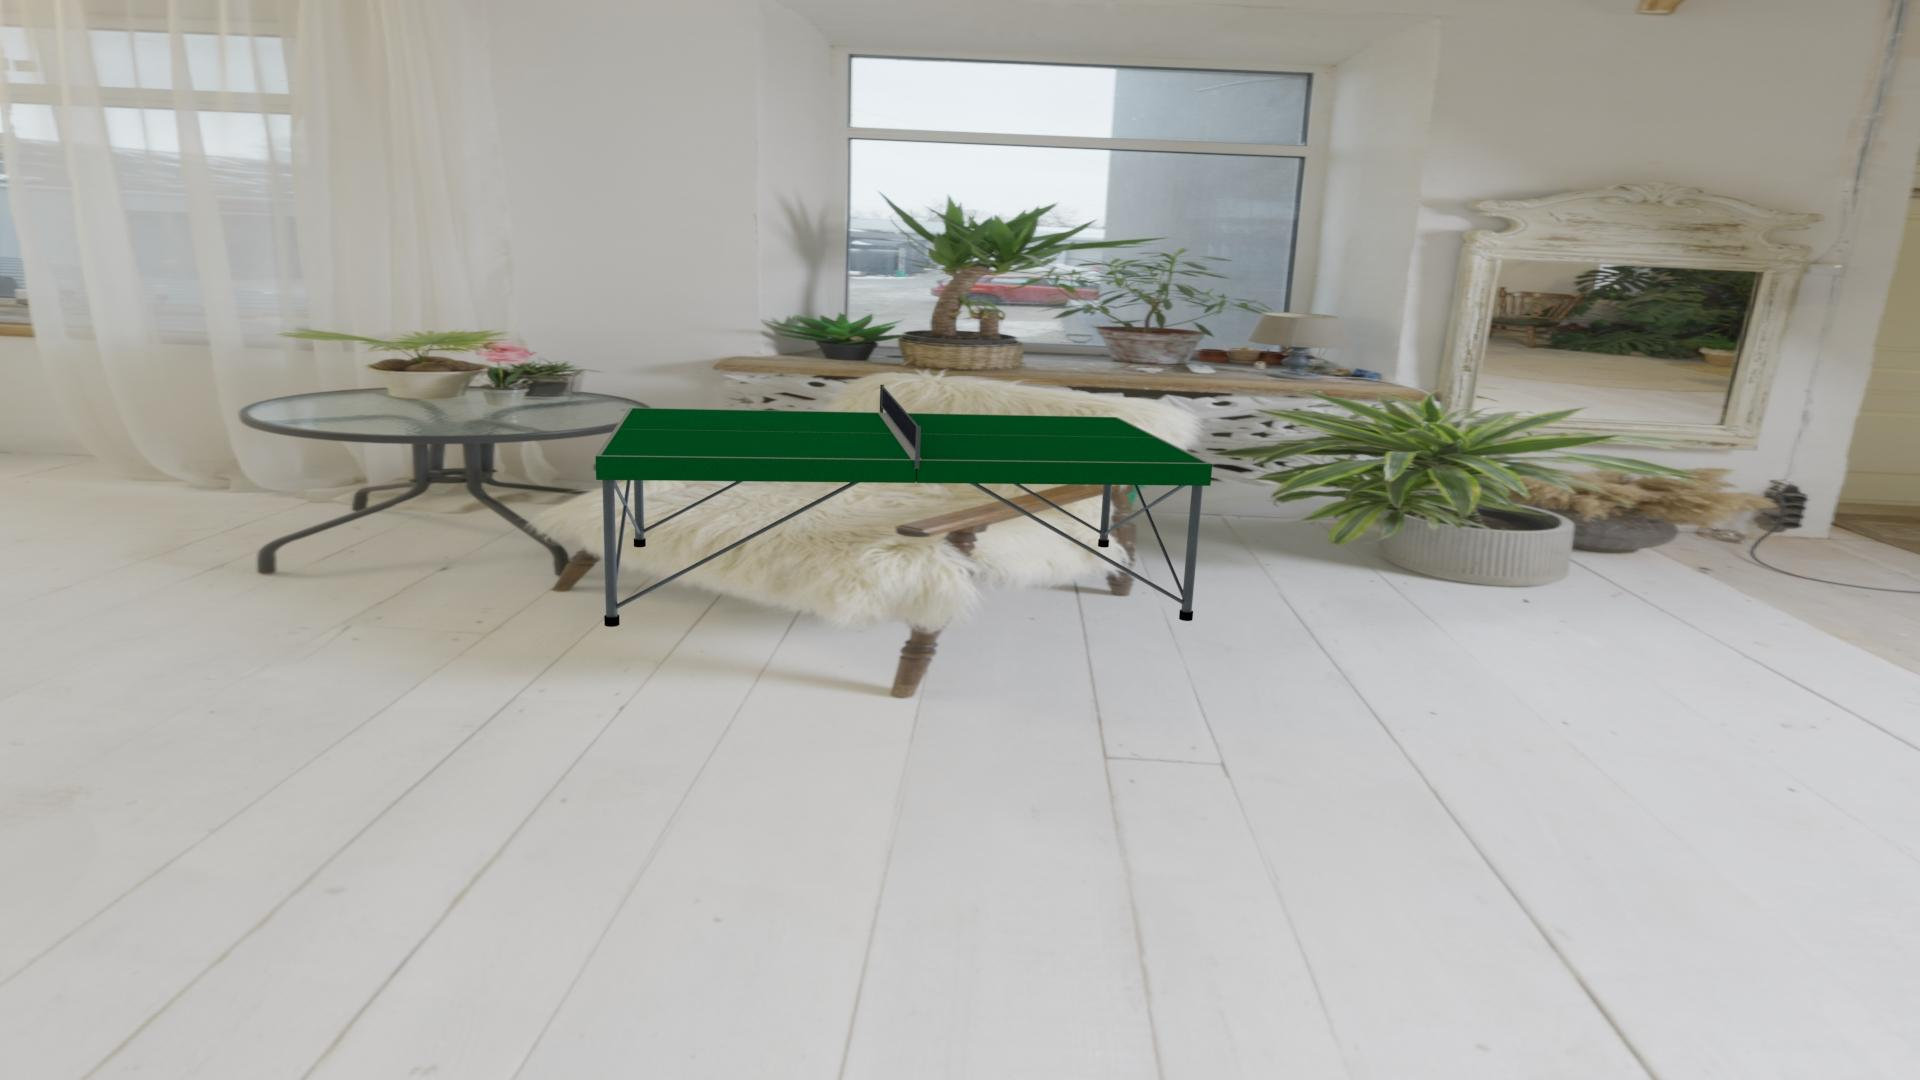table: (601, 409, 1207, 463)
